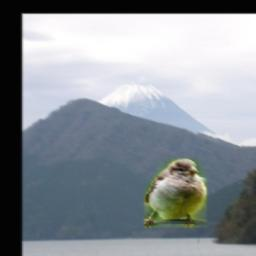Sparrow: (144, 160, 207, 229)
